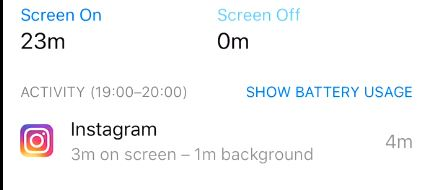activity: (17, 84, 193, 108)
app: (12, 116, 425, 175)
